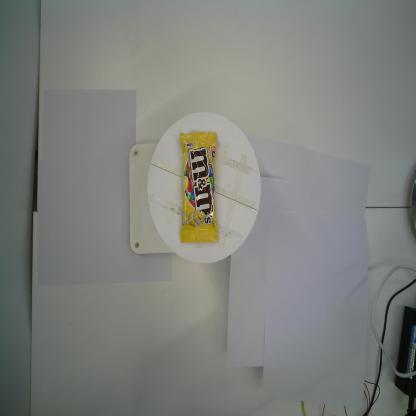Chocolate: (179, 131, 219, 244)
